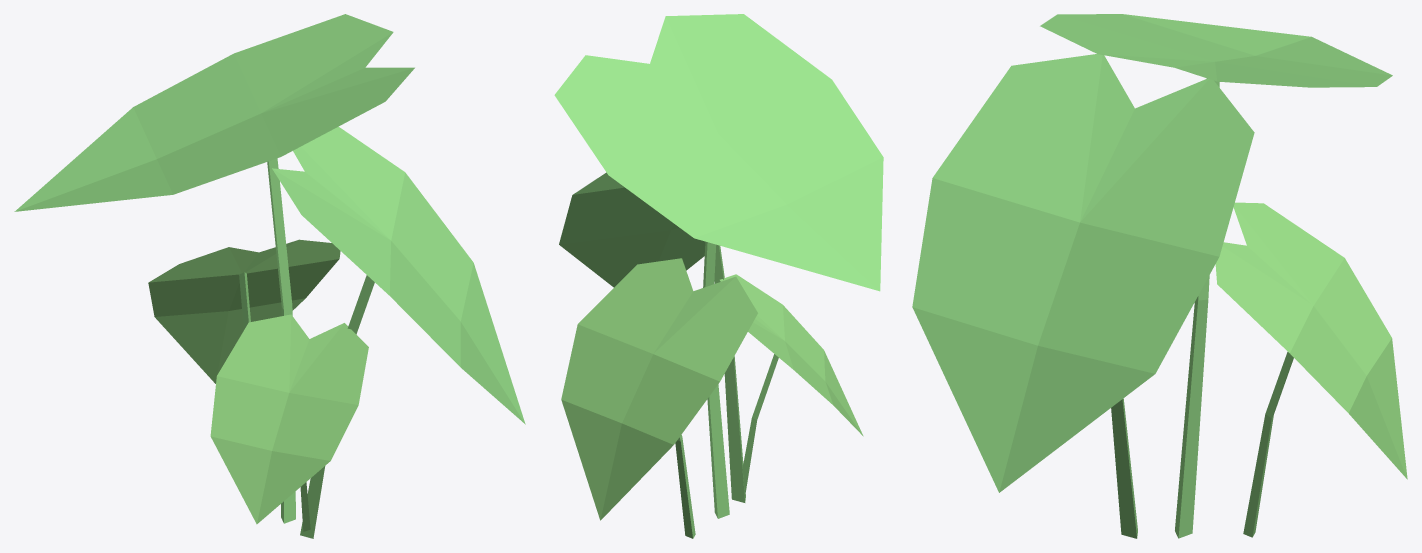
File: Plant_d_OneS_07.fbx
3 renders of one model, left to right at view 1: azimuth 30°, elevation 25°; view 2: azimuth 150°, elevation 25°; view 3: azimuth 270°, elevation 25°, orthographic. The views are drawn at different scales.
Parts seen in each view (by area): view 1: Plant_d_OneS_07; view 2: Plant_d_OneS_07; view 3: Plant_d_OneS_07.
Boxes of the visible parts, box(x1,y1,x2,y2) form: Plant_d_OneS_07: box(14, 14, 525, 538); Plant_d_OneS_07: box(554, 14, 883, 538); Plant_d_OneS_07: box(912, 14, 1407, 538).
Bounding box in the file's own units: 65.62 × 72.94 × 61.47.
